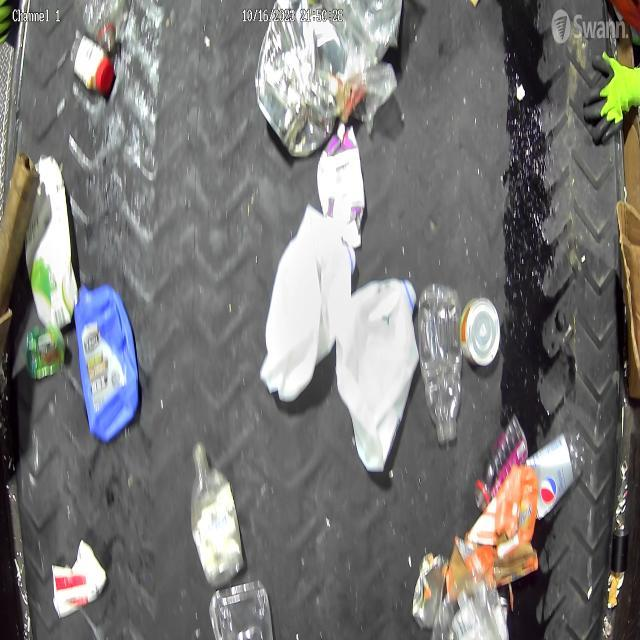can: (255, 0, 348, 161), (460, 294, 502, 370), (411, 550, 448, 632)
milk_jug: (258, 201, 358, 407), (333, 275, 421, 474)
non_white_jug: (72, 279, 143, 446)
plastic_bottle: (186, 442, 246, 592), (418, 282, 463, 447), (472, 412, 532, 512)
